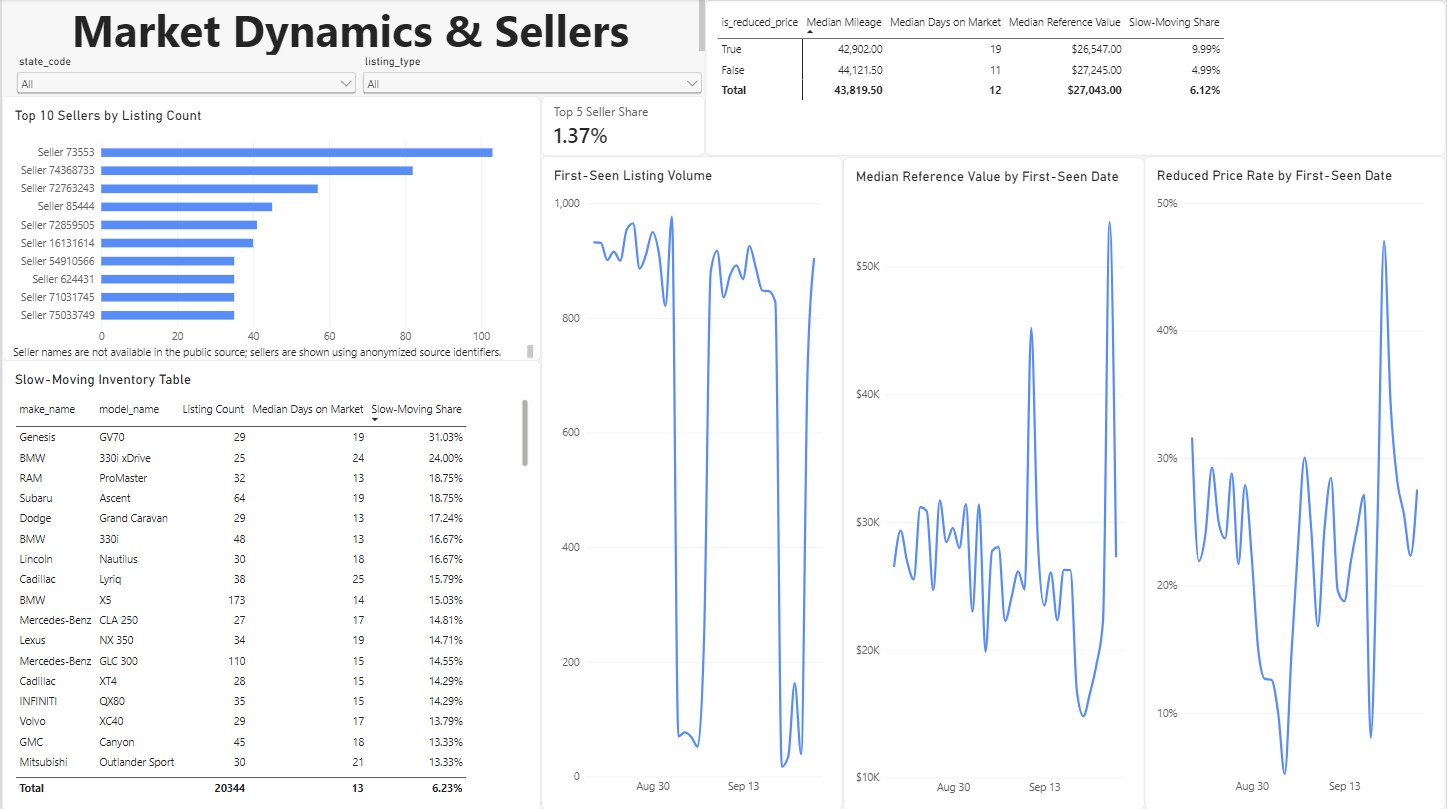

What the dashboard file says about the page in this screenshot:
{"tool":"powerbi","page":{"name":"Market Dynamics and Sellers","canvas":[1920,1080],"ordinal":2},"visuals":[{"type":"slicer","fields":{"Values":["dim_geography.state_code"]},"box":[14.6,74.8,460.8,53.8],"z":0,"group":"g1"},{"type":"lineChart","title":"First-Seen Listing Volume","fields":{"Category":["dim_date.full_date"],"Y":["_Measures.Listing Count"]},"box":[716.4,208.6,401.2,870.3],"z":0,"group":"g2"},{"type":"lineChart","title":"Reduced Price Rate by First-Seen Date","fields":{"Category":["dim_date.full_date"],"Y":["_Measures.Reduced Price Rate"]},"box":[1518.8,208.6,401.2,870.3],"z":0,"group":"g2"},{"type":"lineChart","title":"Median Reference Value by First-Seen Date","fields":{"Category":["dim_date.full_date"],"Y":["_Measures.Median Reference Value"]},"box":[1117.6,209.7,401.2,870.3],"z":0,"group":"g2"},{"type":"pivotTable","title":"Reduced vs Non-Reduced Comparison","fields":{"Rows":["fct_listings.is_reduced_price"],"Values":["_Measures.Median Mileage","_Measures.Median Days on Market","_Measures.Median Reference Value","_Measures.Slow-Moving Share"]},"box":[935.2,1.5,984.8,207.2],"z":1000},{"type":"textbox","box":[0,1.7,935,73.2],"z":1000},{"type":"slicer","fields":{"Values":["fct_listings.listing_type"]},"box":[475.1,74.8,460.8,53.8],"z":1000,"group":"g1"},{"type":"barChart","title":"Top 10 Sellers by Listing Count","fields":{"Category":["dim_seller.Seller Display"],"Y":["_Measures.Listing Count"]},"box":[0,128.6,716.7,351.6],"z":2000},{"type":"cardVisual","fields":{"Data":["_Measures.Top 5 Seller Share"]},"box":[716.4,128.4,218.8,80.2],"z":3000},{"type":"tableEx","title":"Slow-Moving Inventory Table","fields":{"Values":["dim_vehicle.make_name","dim_vehicle.model_name","_Measures.Listing Count","_Measures.Median Days on Market","_Measures.Slow-Moving Share"]},"box":[0,480.2,716.7,600.1],"z":4000},{"type":"group","id":"g1","title":"Group 1","box":[14.6,74.8,920.7,53.2],"z":5000},{"type":"textbox","box":[14.6,459.6,691.6,20.4],"z":5002},{"type":"group","id":"g2","title":"Group 2","box":[716.4,208.6,1203.6,872.5],"z":5003}]}

Visuals, with their boxes in screenshot pixels (x1, y1, x2, y2), scaled from the page's 1920x1080 canvas onto the 1447x809 screenshot:
slicer - dim_geography.state_code: x1=11, y1=56, x2=358, y2=96
"First-Seen Listing Volume" lineChart: x1=540, y1=156, x2=842, y2=808
"Reduced Price Rate by First-Seen Date" lineChart: x1=1145, y1=156, x2=1446, y2=808
"Median Reference Value by First-Seen Date" lineChart: x1=842, y1=157, x2=1145, y2=808
"Reduced vs Non-Reduced Comparison" pivotTable: x1=705, y1=1, x2=1446, y2=156
textbox: x1=0, y1=1, x2=705, y2=56
slicer - fct_listings.listing_type: x1=358, y1=56, x2=705, y2=96
"Top 10 Sellers by Listing Count" barChart: x1=0, y1=96, x2=540, y2=360
cardVisual - _Measures.Top 5 Seller Share: x1=540, y1=96, x2=705, y2=156
"Slow-Moving Inventory Table" tableEx: x1=0, y1=360, x2=540, y2=808
"Group 1" group: x1=11, y1=56, x2=705, y2=96
textbox: x1=11, y1=344, x2=532, y2=360
"Group 2" group: x1=540, y1=156, x2=1446, y2=808
